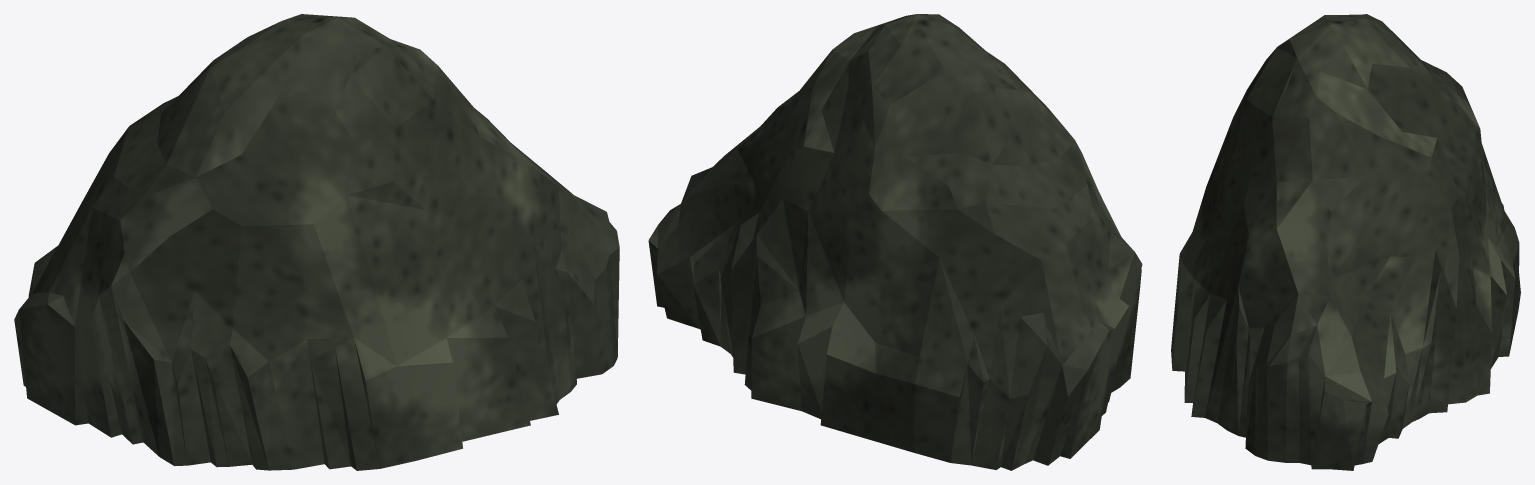
The model's file is CRERock03.glb.
3 views of the same model, side by side, from view 1: azimuth 30°, elevation 25°; view 2: azimuth 150°, elevation 25°; view 3: azimuth 270°, elevation 25° (orthographic). The views are drawn at different scales.
Visible parts, largest first — view 1: CRERock03_rock; view 2: CRERock03_rock; view 3: CRERock03_rock.
Part boxes in pixels (<box>): CRERock03_rock: <box>14,14,619,470</box>; CRERock03_rock: <box>648,14,1142,470</box>; CRERock03_rock: <box>1171,14,1520,470</box>.
Size of the model in its own units: 3.32 by 2.26 by 2.17.
1 material, 1 textured.
